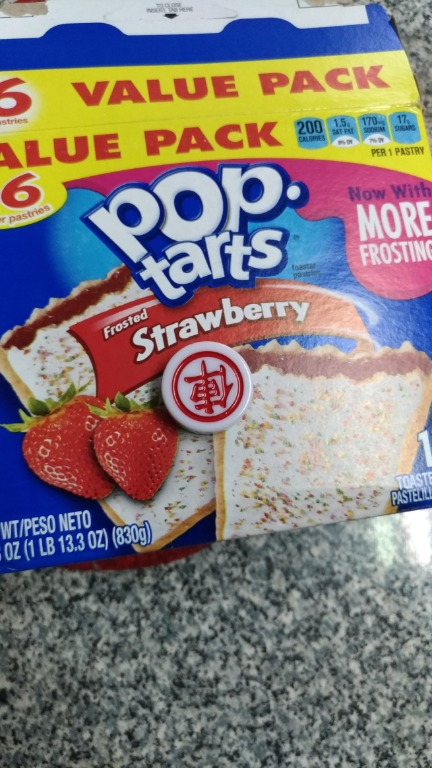r-rook: (152, 334, 272, 442)
